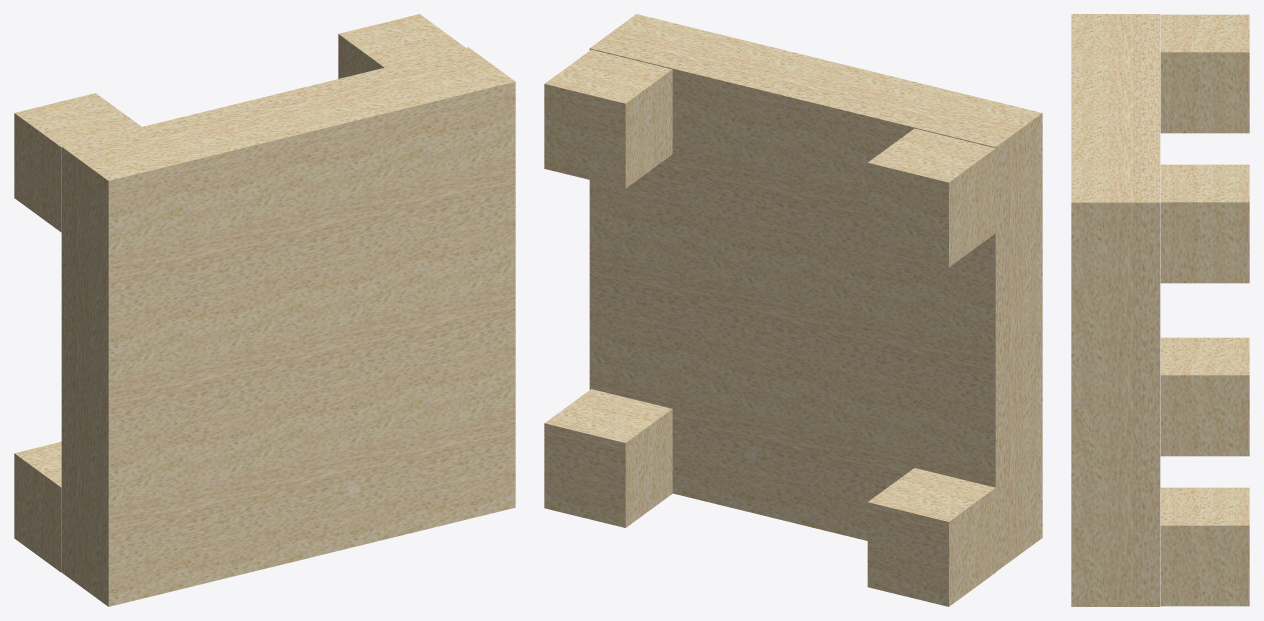
Rendered from table.obj.
3 views of the same model, side by side, from view 1: azimuth 30°, elevation 25°; view 2: azimuth 150°, elevation 25°; view 3: azimuth 270°, elevation 25° (orthographic). The views are drawn at different scales.
Visible parts, largest first — view 1: table_visual_table_visual_mesh; view 2: table_visual_table_visual_mesh; view 3: table_visual_table_visual_mesh.
Boxes of the visible parts, x1,y1,x2,y2 form: table_visual_table_visual_mesh: (14, 14, 515, 606); table_visual_table_visual_mesh: (544, 14, 1042, 606); table_visual_table_visual_mesh: (1071, 14, 1249, 606).
Size of the model in its own units: 0.5002 by 0.5003 by 0.2002.
Materials: 1 (1 with a texture image).
